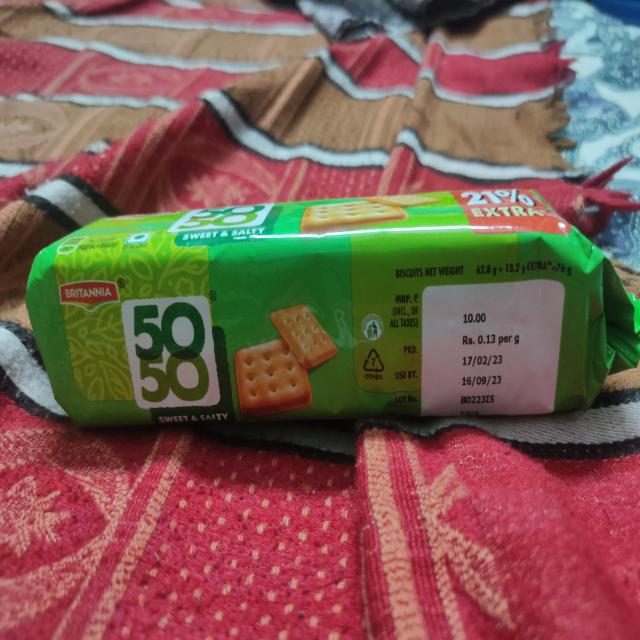50 50 biscuit: (32, 187, 640, 444)
